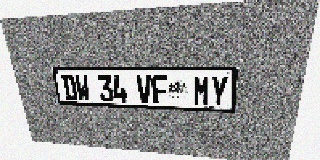3: (97, 75, 114, 102)
4: (111, 75, 128, 102)
D: (61, 75, 78, 101)
F: (151, 75, 168, 104)
M: (193, 76, 210, 105)
V: (136, 75, 152, 103)
W: (74, 75, 91, 101)
Y: (210, 76, 229, 106)
